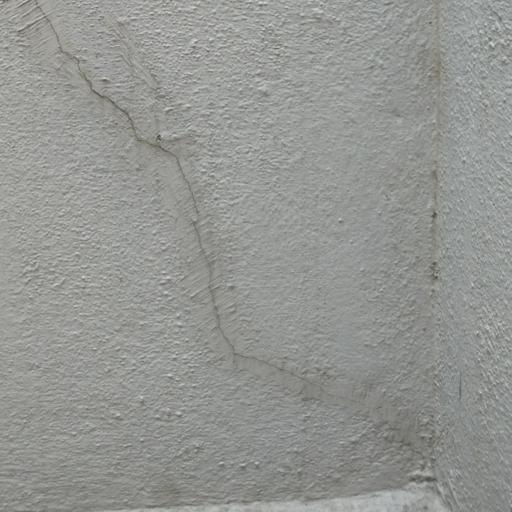minor_crack: (28, 0, 336, 411)
